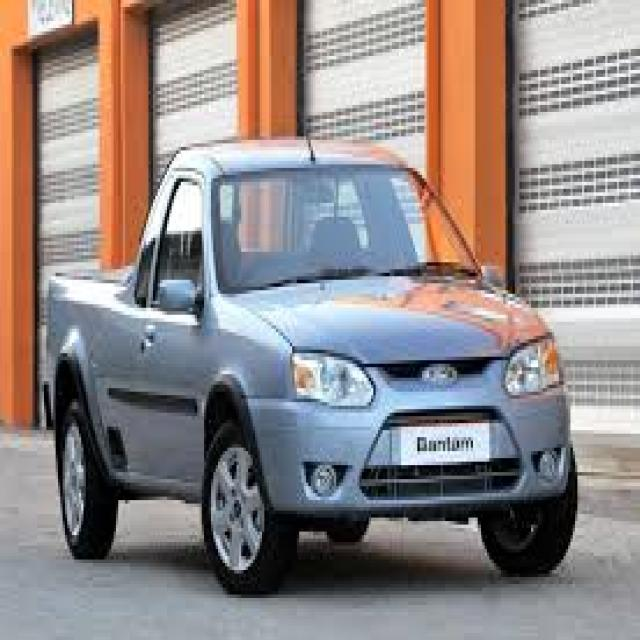Pickup Trucks: (51, 140, 575, 598)
